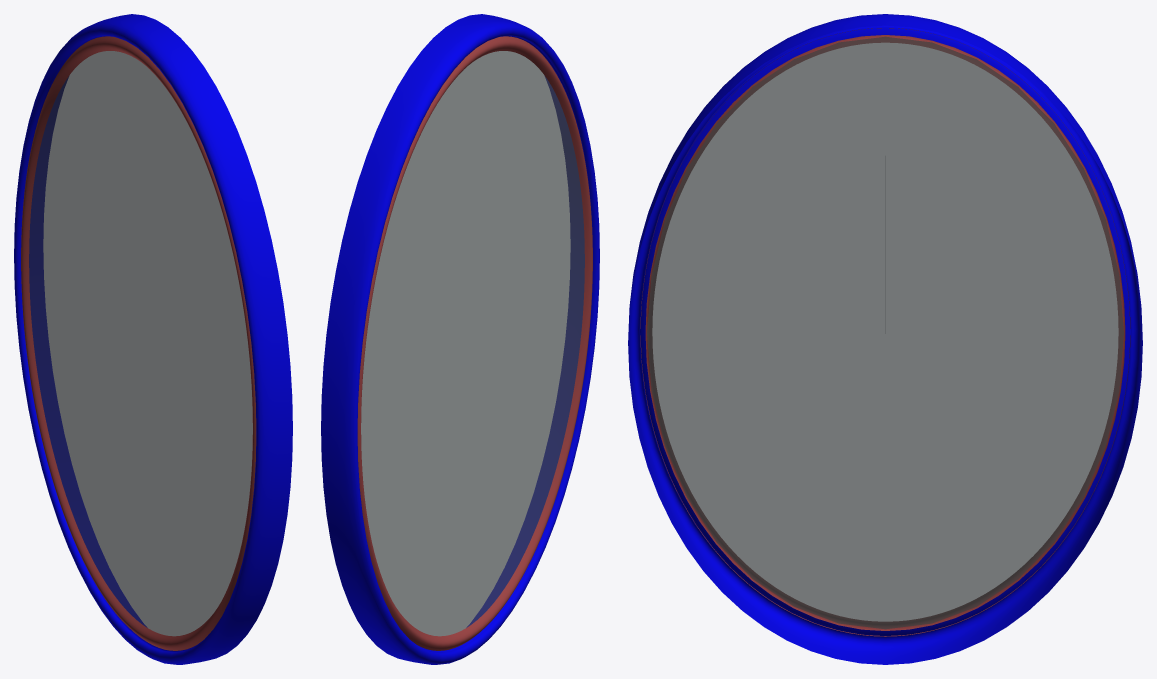
The model's file is Mirror.fbx.
The picture shows the model from 3 angles, left to right: view 1: azimuth 30°, elevation 25°; view 2: azimuth 150°, elevation 25°; view 3: azimuth 270°, elevation 25°; orthographic projection. The views are drawn at different scales.
Visible parts, largest first — view 1: MirrorMain, Emissive; view 2: MirrorMain, Emissive; view 3: MirrorMain, Emissive.
Boxes of the visible parts, x1,y1,x2,y2 form: MirrorMain: (14,14,292,664); Emissive: (21,36,256,650); MirrorMain: (321,14,599,664); Emissive: (357,36,592,650); MirrorMain: (628,14,1142,664); Emissive: (640,28,1130,636).
Bounding box in the file's own units: 0.2887 × 5.28 × 3.85.
